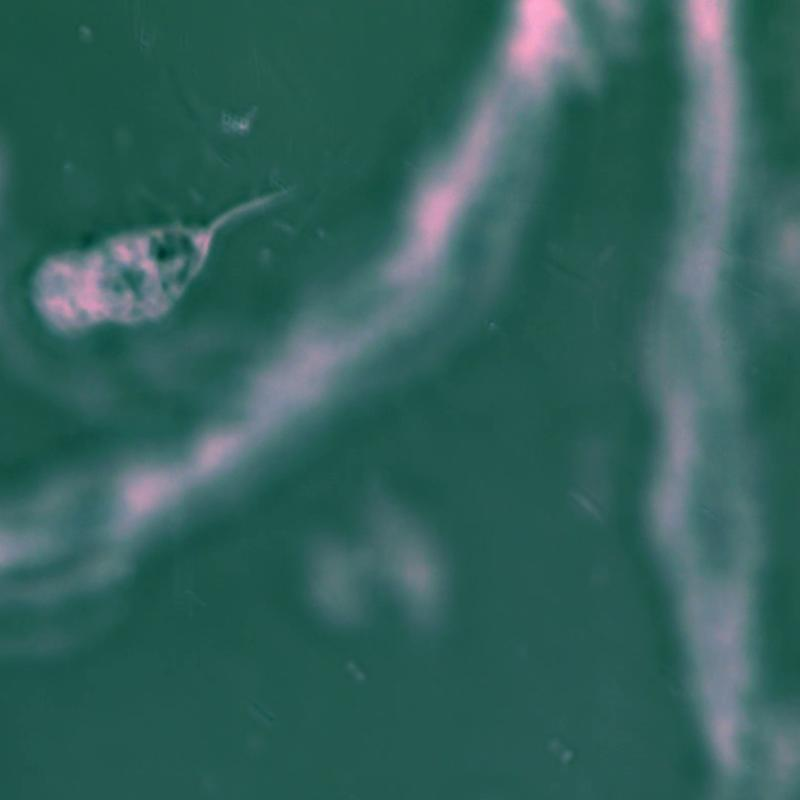depth:60: (5, 162, 384, 337)
